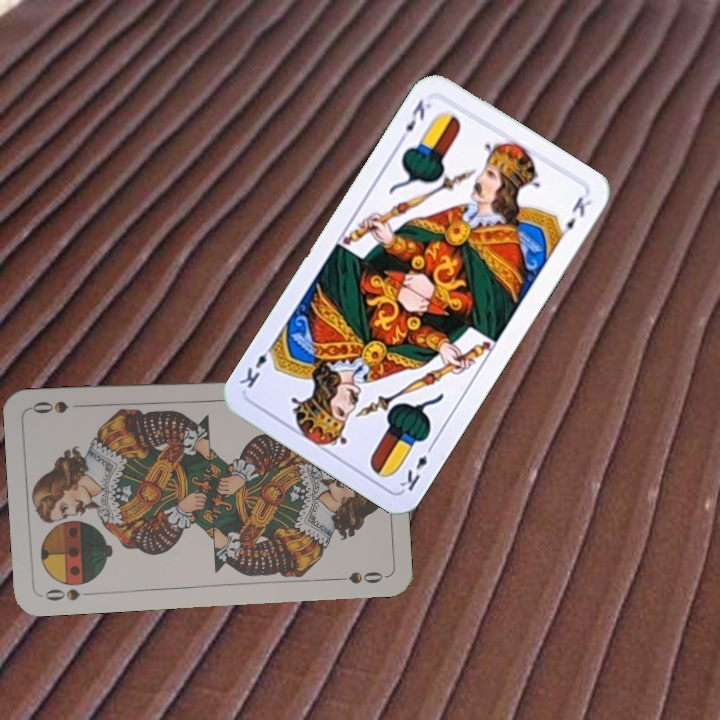EK: (395, 439, 437, 494), (394, 95, 434, 147)
SO: (41, 584, 97, 603)
